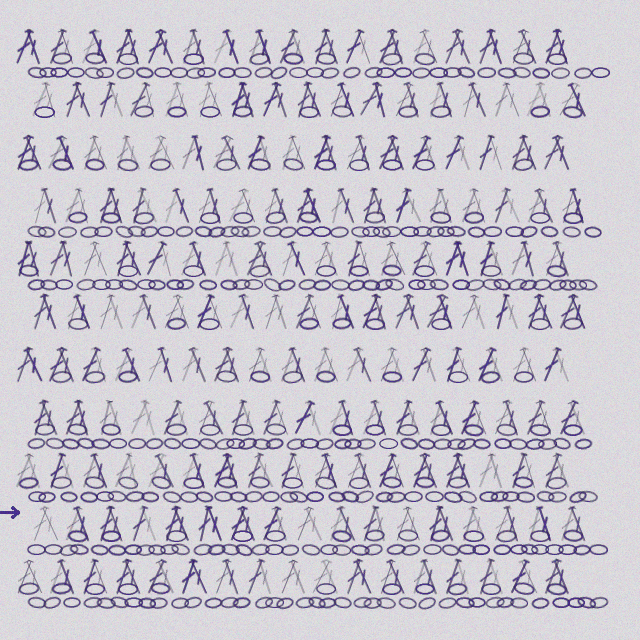chain: (262, 276, 283, 294), (150, 474, 172, 491), (314, 475, 337, 491), (354, 488, 375, 505), (117, 475, 139, 491), (269, 64, 289, 81), (456, 436, 477, 452), (288, 489, 309, 505), (457, 489, 478, 505), (282, 157, 304, 172), (513, 581, 535, 596), (114, 224, 134, 240), (568, 489, 588, 505), (234, 542, 254, 558), (417, 595, 437, 611), (513, 157, 534, 172), (265, 210, 286, 225), (384, 277, 405, 292), (507, 277, 528, 292), (237, 436, 258, 451), (84, 475, 105, 490), (430, 528, 451, 543), (170, 542, 191, 557), (109, 595, 130, 610), (576, 595, 597, 610), (381, 52, 403, 66), (414, 52, 436, 66), (117, 158, 139, 172), (133, 211, 155, 225), (249, 264, 271, 278), (84, 370, 106, 384), (529, 423, 551, 437), (342, 65, 362, 80), (456, 65, 476, 80), (519, 224, 539, 239), (374, 277, 394, 292), (492, 277, 512, 292), (76, 436, 96, 451), (399, 436, 419, 451), (552, 436, 572, 451), (340, 489, 360, 504), (42, 595, 62, 610), (183, 595, 203, 610), (254, 595, 274, 610), (307, 595, 327, 610), (249, 52, 270, 66), (562, 105, 583, 119), (18, 158, 39, 172), (546, 264, 567, 278), (51, 370, 72, 384), (282, 370, 303, 384), (480, 370, 501, 384), (463, 423, 484, 437), (496, 423, 517, 437), (18, 476, 39, 490), (546, 476, 567, 490), (67, 529, 88, 543), (331, 529, 352, 543), (496, 529, 517, 543), (447, 582, 468, 596), (546, 582, 567, 596), (430, 105, 452, 118), (249, 158, 271, 171), (18, 582, 40, 595), (84, 66, 104, 80), (320, 66, 340, 80), (207, 225, 227, 239), (278, 225, 298, 239), (118, 278, 138, 292), (277, 278, 297, 292), (465, 278, 485, 292), (548, 278, 568, 292), (578, 278, 598, 292), (198, 437, 218, 451), (215, 437, 235, 451), (162, 490, 182, 504), (443, 490, 463, 504), (59, 543, 79, 557), (301, 543, 321, 557), (401, 543, 421, 557), (275, 596, 295, 610), (376, 596, 396, 610), (513, 52, 534, 65), (150, 158, 171, 171), (216, 158, 237, 171), (298, 211, 319, 224), (430, 211, 451, 224), (166, 317, 187, 330), (216, 370, 237, 383), (67, 423, 88, 436), (166, 423, 187, 436), (51, 476, 72, 489), (513, 476, 534, 489), (51, 582, 72, 595), (150, 582, 171, 595), (116, 66, 135, 80), (372, 225, 391, 239), (347, 278, 366, 292), (519, 278, 538, 292), (61, 437, 80, 451), (286, 437, 305, 451), (315, 437, 334, 451), (195, 490, 214, 504), (441, 543, 460, 557), (398, 596, 417, 610), (438, 596, 457, 610), (52, 52, 72, 65), (85, 52, 105, 65), (283, 52, 303, 65), (316, 52, 336, 65), (27, 66, 47, 79), (134, 105, 154, 118), (233, 105, 253, 118), (332, 105, 352, 118), (398, 105, 418, 118), (530, 105, 550, 118), (52, 158, 72, 171), (85, 158, 105, 171), (68, 211, 88, 224), (365, 211, 385, 224), (464, 211, 484, 224), (27, 225, 47, 238), (220, 225, 240, 238), (230, 225, 250, 238), (241, 225, 261, 238), (446, 225, 466, 238), (19, 264, 39, 277), (382, 264, 402, 277), (76, 278, 96, 291), (429, 278, 449, 291), (482, 278, 502, 291), (532, 278, 552, 291), (299, 317, 319, 330), (332, 317, 352, 330), (563, 317, 583, 330), (118, 370, 138, 383), (250, 370, 270, 383), (316, 370, 336, 383), (35, 423, 55, 436), (101, 423, 121, 436), (266, 423, 286, 436), (45, 437, 65, 450), (217, 476, 237, 489), (250, 476, 270, 489), (382, 476, 402, 489), (415, 476, 435, 489), (448, 476, 468, 489), (107, 490, 127, 503), (125, 490, 145, 503), (578, 490, 598, 503), (365, 529, 385, 542), (398, 529, 418, 542), (563, 529, 583, 542), (69, 543, 89, 556), (193, 543, 213, 556), (386, 543, 406, 556), (27, 596, 47, 609), (83, 596, 103, 609), (295, 596, 315, 609), (455, 596, 475, 609), (485, 596, 505, 609), (589, 596, 609, 609), (183, 53, 204, 65), (34, 106, 55, 118), (183, 265, 204, 277), (414, 265, 435, 277), (199, 318, 220, 330), (183, 477, 204, 489), (282, 477, 303, 489), (166, 530, 187, 542), (232, 530, 253, 542), (265, 530, 286, 542), (463, 530, 484, 542), (135, 66, 154, 79), (254, 66, 273, 79), (364, 66, 383, 79), (512, 66, 531, 79), (127, 225, 146, 238), (140, 225, 159, 238), (175, 225, 194, 238), (194, 225, 213, 238), (426, 225, 445, 238), (540, 225, 559, 238), (27, 278, 46, 291), (176, 278, 195, 291), (232, 278, 251, 291), (298, 278, 317, 291), (27, 437, 46, 450), (145, 437, 164, 450), (163, 437, 182, 450), (265, 437, 284, 450), (244, 490, 263, 503), (490, 490, 509, 503), (536, 490, 555, 503), (207, 543, 226, 556), (221, 543, 240, 556), (251, 543, 270, 556), (364, 543, 383, 556), (520, 543, 539, 556), (220, 596, 239, 609), (232, 596, 251, 609), (333, 596, 352, 609), (353, 596, 372, 609), (496, 596, 515, 609), (118, 53, 138, 65), (547, 53, 567, 65), (497, 67, 517, 79), (167, 106, 187, 118), (200, 106, 220, 118), (299, 106, 319, 118), (316, 159, 336, 171), (349, 159, 369, 171), (382, 159, 402, 171), (415, 159, 435, 171), (101, 212, 121, 224), (200, 212, 220, 224), (233, 212, 253, 224), (530, 212, 550, 224), (563, 212, 583, 224), (118, 265, 138, 277), (316, 265, 336, 277), (349, 265, 369, 277), (481, 265, 501, 277), (68, 318, 88, 330), (365, 318, 385, 330), (431, 318, 451, 330), (530, 318, 550, 330), (382, 371, 402, 383), (448, 371, 468, 383), (514, 371, 534, 383), (200, 424, 220, 436), (233, 424, 253, 436), (332, 424, 352, 436), (365, 424, 385, 436), (398, 424, 418, 436), (431, 424, 451, 436), (563, 424, 583, 436), (525, 438, 545, 450), (349, 477, 369, 489), (386, 491, 406, 503), (101, 530, 121, 542), (530, 530, 550, 542), (350, 544, 370, 556), (85, 583, 105, 595), (118, 583, 138, 595), (316, 583, 336, 595), (382, 583, 402, 595), (415, 583, 435, 595), (481, 583, 501, 595), (96, 597, 116, 609), (186, 67, 205, 79), (551, 67, 570, 79), (37, 226, 56, 238), (58, 226, 77, 238), (80, 226, 99, 238), (330, 226, 349, 238), (351, 226, 370, 238), (467, 226, 486, 238), (562, 226, 581, 238), (331, 279, 350, 291), (91, 438, 110, 450), (252, 438, 271, 450), (357, 438, 376, 450), (417, 438, 436, 450), (433, 438, 452, 450), (447, 438, 466, 450), (538, 438, 557, 450), (574, 438, 593, 450), (229, 491, 248, 503), (375, 491, 394, 503), (516, 491, 535, 503), (548, 491, 567, 503), (90, 544, 109, 556), (136, 544, 155, 556), (332, 544, 351, 556), (149, 597, 168, 609), (204, 597, 223, 609), (318, 597, 337, 609), (363, 597, 382, 609), (531, 597, 550, 609), (412, 67, 430, 79), (532, 67, 550, 79), (574, 67, 592, 79), (584, 226, 602, 238), (40, 279, 58, 291), (148, 279, 166, 291), (199, 279, 217, 291), (220, 279, 238, 291), (313, 279, 331, 291), (362, 279, 380, 291), (559, 279, 577, 291), (569, 279, 587, 291), (334, 438, 352, 450), (344, 438, 362, 450), (473, 438, 491, 450), (509, 438, 527, 450), (38, 491, 56, 503), (60, 491, 78, 503), (80, 491, 98, 503), (141, 491, 159, 503), (180, 491, 198, 503), (280, 491, 298, 503), (328, 491, 346, 503), (108, 544, 126, 556), (148, 544, 166, 556), (281, 544, 299, 556), (573, 544, 591, 556), (138, 597, 156, 609), (171, 597, 189, 609), (510, 597, 528, 609), (197, 67, 216, 78), (233, 67, 252, 78), (289, 67, 308, 78), (376, 67, 395, 78), (429, 67, 448, 78), (443, 67, 462, 78), (477, 67, 496, 78), (591, 67, 610, 78), (94, 226, 113, 237), (263, 226, 282, 237), (312, 226, 331, 237), (382, 226, 401, 237), (400, 226, 419, 237), (413, 226, 432, 237), (483, 226, 502, 237), (505, 226, 524, 237), (92, 279, 111, 290), (137, 279, 156, 290), (244, 279, 263, 290), (417, 279, 436, 290), (181, 438, 200, 449), (226, 438, 245, 449), (300, 438, 319, 449), (379, 438, 398, 449), (214, 491, 233, 502), (404, 491, 423, 502), (425, 491, 444, 502), (479, 491, 498, 502), (27, 544, 46, 555), (44, 544, 63, 555), (160, 544, 179, 555), (265, 544, 284, 555), (423, 544, 442, 555), (545, 544, 564, 555), (558, 544, 577, 555), (589, 544, 608, 555), (124, 597, 143, 608), (265, 597, 284, 608), (39, 67, 57, 78), (50, 67, 68, 78), (67, 67, 85, 78), (96, 67, 114, 78), (154, 67, 172, 78), (170, 67, 188, 78), (218, 67, 236, 78), (306, 67, 324, 78), (394, 67, 412, 78), (157, 226, 175, 237), (296, 226, 314, 237), (362, 226, 380, 237), (437, 226, 455, 237), (55, 279, 73, 290), (105, 279, 123, 290), (166, 279, 184, 290), (408, 279, 426, 290), (452, 279, 470, 290), (109, 438, 127, 449), (128, 438, 146, 449), (494, 438, 512, 449), (28, 491, 46, 502), (96, 491, 114, 502), (262, 491, 280, 502), (306, 491, 324, 502), (502, 491, 520, 502), (124, 544, 142, 555), (320, 544, 338, 555), (458, 544, 476, 555), (472, 544, 490, 555), (493, 544, 511, 555), (510, 544, 528, 555), (531, 544, 549, 555), (63, 597, 81, 608), (468, 597, 486, 608), (552, 597, 570, 608), (567, 597, 585, 608)
double: (355, 81, 384, 118), (554, 81, 582, 119), (208, 134, 236, 172), (422, 293, 450, 331), (125, 81, 152, 119), (43, 134, 70, 172), (135, 187, 162, 225), (224, 187, 251, 225), (142, 240, 169, 278), (201, 399, 228, 437), (290, 399, 317, 437), (152, 452, 179, 490), (307, 558, 334, 596), (374, 28, 400, 66), (27, 81, 53, 119), (390, 81, 416, 119), (565, 81, 591, 119), (143, 134, 169, 172), (153, 134, 179, 172), (219, 134, 245, 172), (341, 134, 367, 172), (374, 134, 400, 172), (407, 134, 433, 172), (440, 134, 466, 172), (539, 134, 565, 172), (400, 187, 426, 225), (499, 187, 525, 225), (532, 187, 558, 225), (120, 240, 146, 278), (242, 240, 268, 278), (384, 240, 410, 278), (407, 240, 433, 278), (159, 293, 185, 331), (225, 293, 251, 331), (357, 293, 383, 331), (390, 293, 416, 331), (554, 293, 580, 331), (21, 346, 47, 384), (77, 346, 103, 384), (209, 346, 235, 384), (407, 346, 433, 384), (473, 346, 499, 384), (126, 399, 152, 437), (489, 399, 515, 437), (555, 399, 581, 437), (143, 452, 169, 490), (252, 452, 278, 490), (37, 505, 63, 543), (258, 505, 284, 543), (301, 505, 327, 543), (334, 505, 360, 543), (21, 558, 47, 596), (143, 558, 169, 596), (153, 558, 179, 596), (186, 558, 212, 596), (506, 558, 532, 596), (516, 558, 542, 596), (11, 28, 36, 66), (77, 28, 102, 66), (87, 28, 112, 66), (143, 28, 168, 66), (153, 28, 178, 66), (209, 28, 234, 66), (275, 28, 300, 66), (341, 28, 366, 66), (417, 28, 442, 66), (440, 28, 465, 66), (450, 28, 475, 66), (516, 28, 541, 66), (70, 81, 95, 119), (202, 81, 227, 119), (258, 81, 283, 119), (301, 81, 326, 119), (466, 81, 491, 119), (522, 81, 547, 119), (21, 134, 46, 172), (54, 134, 79, 172), (87, 134, 112, 172), (120, 134, 145, 172), (242, 134, 267, 172), (60, 187, 85, 225), (301, 187, 326, 225), (87, 240, 112, 278), (176, 240, 201, 278), (252, 240, 277, 278), (285, 240, 310, 278), (506, 240, 531, 278), (126, 293, 151, 331), (192, 293, 217, 331), (291, 293, 316, 331), (456, 293, 481, 331), (532, 293, 557, 331), (44, 346, 69, 384), (54, 346, 79, 384), (110, 346, 135, 384), (120, 346, 145, 384), (143, 346, 168, 384), (186, 346, 211, 384), (318, 346, 343, 384), (341, 346, 366, 384), (351, 346, 376, 384), (450, 346, 475, 384), (483, 346, 508, 384), (539, 346, 564, 384), (37, 399, 62, 437), (159, 399, 184, 437), (258, 399, 283, 437), (324, 399, 349, 437), (433, 399, 458, 437), (456, 399, 481, 437), (522, 399, 547, 437), (565, 399, 590, 437), (11, 452, 36, 490), (110, 452, 135, 490), (209, 452, 234, 490), (374, 452, 399, 490), (417, 452, 442, 490), (169, 505, 194, 543), (235, 505, 260, 543), (400, 505, 425, 543), (466, 505, 491, 543), (489, 505, 514, 543), (120, 558, 145, 596), (318, 558, 343, 596), (351, 558, 376, 596), (384, 558, 409, 596), (549, 558, 574, 596), (45, 28, 69, 66), (111, 28, 135, 66), (220, 28, 244, 66), (286, 28, 310, 66), (319, 28, 343, 66), (408, 28, 432, 66), (474, 28, 498, 66), (507, 28, 531, 66), (540, 28, 564, 66), (104, 81, 128, 119), (160, 81, 184, 119), (335, 81, 359, 119), (500, 81, 524, 119), (12, 134, 36, 172), (177, 134, 201, 172), (286, 134, 310, 172), (309, 134, 333, 172), (385, 134, 409, 172), (451, 134, 475, 172), (517, 134, 541, 172), (550, 134, 574, 172), (170, 187, 194, 225), (236, 187, 260, 225), (269, 187, 293, 225), (335, 187, 359, 225), (457, 187, 481, 225), (523, 187, 547, 225), (45, 240, 69, 278), (78, 240, 102, 278), (187, 240, 211, 278), (309, 240, 333, 278), (319, 240, 343, 278), (418, 240, 442, 278), (484, 240, 508, 278), (540, 240, 564, 278), (550, 240, 574, 278), (71, 293, 95, 331), (104, 293, 128, 331), (137, 293, 161, 331), (170, 293, 194, 331), (203, 293, 227, 331), (302, 293, 326, 331), (335, 293, 359, 331), (566, 293, 590, 331), (177, 346, 201, 384), (220, 346, 244, 384), (243, 346, 267, 384), (253, 346, 277, 384), (286, 346, 310, 384), (375, 346, 399, 384), (385, 346, 409, 384), (507, 346, 531, 384), (517, 346, 541, 384), (550, 346, 574, 384), (61, 399, 85, 437), (193, 399, 217, 437), (236, 399, 260, 437), (269, 399, 293, 437), (302, 399, 326, 437), (358, 399, 382, 437), (391, 399, 415, 437), (401, 399, 425, 437), (467, 399, 491, 437), (55, 452, 79, 490), (88, 452, 112, 490), (177, 452, 201, 490), (309, 452, 333, 490), (342, 452, 366, 490), (352, 452, 376, 490), (385, 452, 409, 490), (408, 452, 432, 490), (441, 452, 465, 490), (451, 452, 475, 490), (474, 452, 498, 490), (540, 452, 564, 490), (550, 452, 574, 490), (28, 505, 52, 543), (61, 505, 85, 543), (137, 505, 161, 543), (203, 505, 227, 543), (226, 505, 250, 543), (292, 505, 316, 543), (434, 505, 458, 543), (566, 505, 590, 543), (12, 558, 36, 596), (55, 558, 79, 596), (88, 558, 112, 596), (210, 558, 234, 596), (243, 558, 267, 596), (276, 558, 300, 596), (286, 558, 310, 596), (418, 558, 442, 596), (484, 558, 508, 596), (540, 558, 564, 596), (22, 28, 45, 66), (55, 28, 78, 66), (187, 28, 210, 66), (253, 28, 276, 66), (352, 28, 375, 66), (385, 28, 408, 66), (484, 28, 507, 66), (550, 28, 573, 66), (61, 81, 84, 119), (170, 81, 193, 119), (236, 81, 259, 119), (269, 81, 292, 119), (325, 81, 348, 119), (401, 81, 424, 119), (434, 81, 457, 119), (490, 81, 513, 119), (533, 81, 556, 119), (319, 134, 342, 172), (418, 134, 441, 172), (474, 134, 497, 172), (484, 134, 507, 172), (507, 134, 530, 172), (160, 187, 183, 225), (193, 187, 216, 225), (292, 187, 315, 225), (368, 187, 391, 225), (391, 187, 414, 225), (467, 187, 490, 225), (490, 187, 513, 225), (210, 240, 233, 278), (220, 240, 243, 278), (441, 240, 464, 278), (451, 240, 474, 278), (38, 293, 61, 331), (236, 293, 259, 331), (269, 293, 292, 331), (401, 293, 424, 331), (434, 293, 457, 331), (467, 293, 490, 331), (500, 293, 523, 331), (523, 293, 546, 331), (12, 346, 35, 384), (88, 346, 111, 384), (276, 346, 299, 384), (309, 346, 332, 384), (418, 346, 441, 384), (104, 399, 127, 437), (368, 399, 391, 437), (500, 399, 523, 437), (533, 399, 556, 437), (22, 452, 45, 490), (45, 452, 68, 490), (78, 452, 101, 490), (187, 452, 210, 490), (220, 452, 243, 490), (243, 452, 266, 490), (276, 452, 299, 490), (319, 452, 342, 490), (507, 452, 530, 490), (71, 505, 94, 543), (104, 505, 127, 543), (269, 505, 292, 543), (325, 505, 348, 543), (391, 505, 414, 543), (556, 505, 579, 543), (45, 558, 68, 596), (78, 558, 101, 596), (111, 558, 134, 596), (177, 558, 200, 596), (220, 558, 243, 596), (342, 558, 365, 596), (375, 558, 398, 596), (408, 558, 431, 596), (441, 558, 464, 596), (122, 28, 144, 66), (178, 28, 200, 66), (244, 28, 266, 66), (310, 28, 332, 66), (95, 81, 117, 119), (227, 81, 249, 119), (79, 134, 101, 172), (254, 134, 276, 172), (277, 134, 299, 172), (353, 134, 375, 172), (39, 187, 61, 225), (95, 187, 117, 225), (105, 187, 127, 225), (204, 187, 226, 225), (435, 187, 457, 225), (557, 187, 579, 225), (567, 187, 589, 225), (277, 240, 299, 278), (353, 240, 375, 278), (376, 240, 398, 278), (475, 240, 497, 278), (29, 293, 51, 331), (62, 293, 84, 331), (95, 293, 117, 331), (260, 293, 282, 331), (369, 293, 391, 331), (155, 346, 177, 384), (442, 346, 464, 384), (29, 399, 51, 437), (138, 399, 160, 437), (171, 399, 193, 437), (227, 399, 249, 437), (336, 399, 358, 437), (425, 399, 447, 437), (287, 452, 309, 490), (485, 452, 507, 490), (518, 452, 540, 490), (95, 505, 117, 543), (128, 505, 150, 543), (161, 505, 183, 543), (359, 505, 381, 543), (458, 505, 480, 543), (501, 505, 523, 543), (534, 505, 556, 543), (254, 558, 276, 596), (452, 558, 474, 596), (475, 558, 497, 596), (39, 81, 60, 119), (194, 81, 215, 119), (293, 81, 314, 119), (425, 81, 446, 119), (458, 81, 479, 119), (112, 134, 133, 172), (29, 187, 50, 225), (72, 187, 93, 225), (128, 187, 149, 225), (260, 187, 281, 225), (359, 187, 380, 225), (425, 187, 446, 225), (13, 240, 34, 278), (23, 240, 44, 278), (112, 240, 133, 278), (155, 240, 176, 278), (343, 240, 364, 278), (518, 240, 539, 278), (326, 293, 347, 331), (72, 399, 93, 437), (425, 505, 446, 543), (524, 505, 545, 543), (139, 81, 159, 119), (370, 81, 390, 119), (189, 134, 209, 172), (327, 187, 347, 225), (57, 240, 77, 278), (492, 293, 512, 331), (370, 505, 390, 543), (96, 399, 115, 437), (123, 452, 142, 490), (195, 505, 214, 543)
noise: (0, 505, 22, 519)
